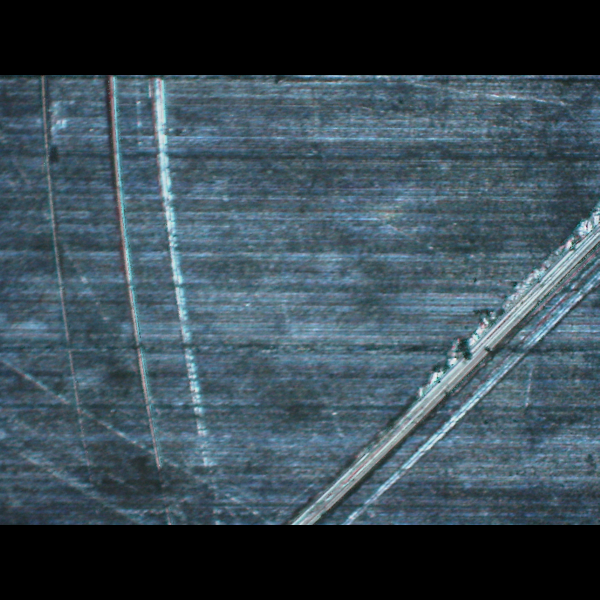d: (267, 200, 600, 525), (27, 75, 237, 504)
